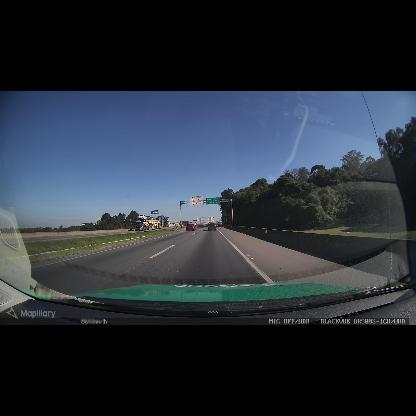O-MP: (176, 225, 178, 230)
R-19: (190, 196, 204, 205)
